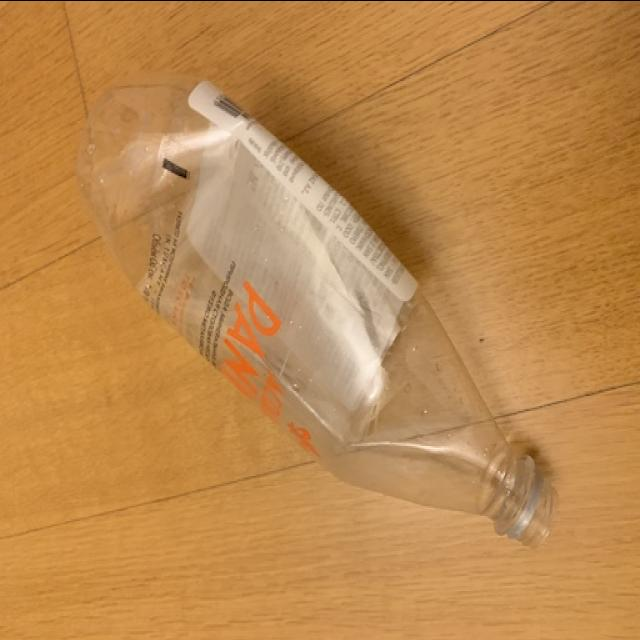litter: (70, 61, 568, 562)
